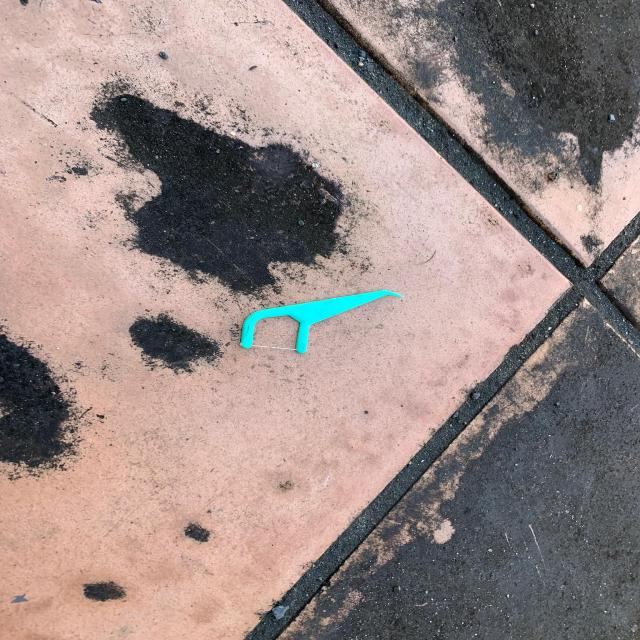litter: (238, 288, 408, 352)
